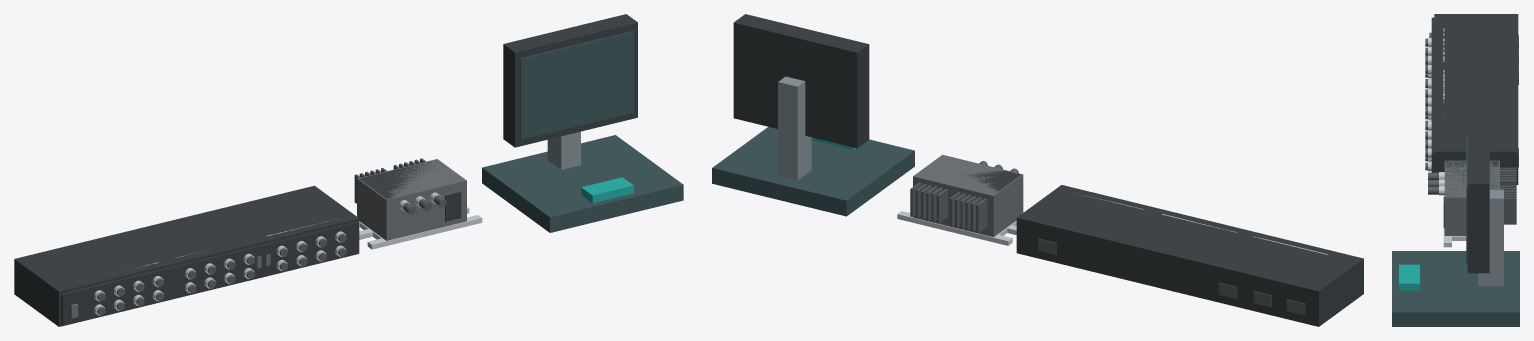
The model's file is doric-nc500-static.glb.
The picture shows the model from 3 angles, left to right: view 1: azimuth 30°, elevation 25°; view 2: azimuth 150°, elevation 25°; view 3: azimuth 270°, elevation 25°; orthographic projection. The views are drawn at different scales.
Parts seen in each view (by area): view 1: nc500_primary_case, detached_drawing_display_base, noninstrument_display_glass, nc500_front_face, ilfmc4_case_body, generic_display_case, ilfmc4_top_case_trim, generic_display_support, detached_card_switch, ilfmc4_lower_mount_base; view 2: nc500_primary_case, generic_display_case, detached_drawing_display_base, ilfmc4_case_body, generic_display_support, ilfmc4_top_case_trim, ilfmc4_lower_mount_base; view 3: nc500_primary_case, detached_drawing_display_base, generic_display_case, ilfmc4_case_body, generic_display_support, nc500_front_face, detached_card_switch, ilfmc4_top_case_trim, ilfmc4_stationary_rear_fin.011, noninstrument_display_glass, ilfmc4_stationary_rear_fin.005.
Part boxes in pixels (box(x1,y1,x2,y2)): nc500_primary_case: box(14, 185, 359, 326); detached_drawing_display_base: box(482, 135, 683, 232); noninstrument_display_glass: box(520, 31, 633, 139); nc500_front_face: box(61, 221, 358, 326); ilfmc4_case_body: box(357, 159, 466, 240); generic_display_case: box(503, 14, 637, 147); ilfmc4_top_case_trim: box(359, 160, 439, 199); generic_display_support: box(547, 131, 580, 169); detached_card_switch: box(581, 177, 633, 203); ilfmc4_lower_mount_base: box(359, 220, 468, 245); nc500_primary_case: box(1016, 185, 1363, 326); generic_display_case: box(733, 14, 869, 148); detached_drawing_display_base: box(712, 127, 914, 216); ilfmc4_case_body: box(913, 154, 1023, 236); generic_display_support: box(778, 76, 811, 180); ilfmc4_top_case_trim: box(963, 170, 1020, 191); ilfmc4_lower_mount_base: box(911, 217, 1016, 241); nc500_primary_case: box(1434, 14, 1518, 184); detached_drawing_display_base: box(1392, 251, 1519, 326); generic_display_case: box(1467, 127, 1489, 273); ilfmc4_case_body: box(1444, 160, 1499, 235); generic_display_support: box(1478, 189, 1503, 285); nc500_front_face: box(1431, 17, 1434, 172); detached_card_switch: box(1399, 264, 1419, 290); ilfmc4_top_case_trim: box(1445, 161, 1498, 196); ilfmc4_stationary_rear_fin.011: box(1504, 197, 1516, 224); noninstrument_display_glass: box(1466, 136, 1467, 264); ilfmc4_stationary_rear_fin.005: box(1500, 179, 1516, 185).
Size of the model in its own units: 0.802 by 0.1905 by 0.157.
